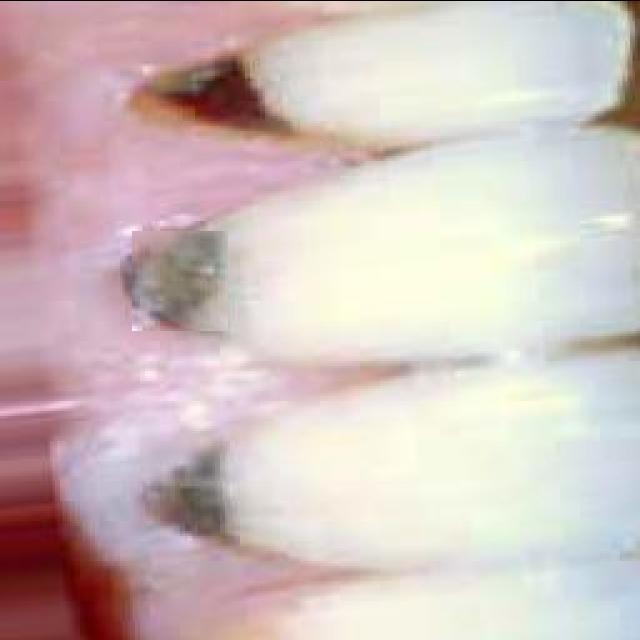caries: (142, 63, 270, 145), (132, 230, 228, 330), (157, 438, 235, 541)
